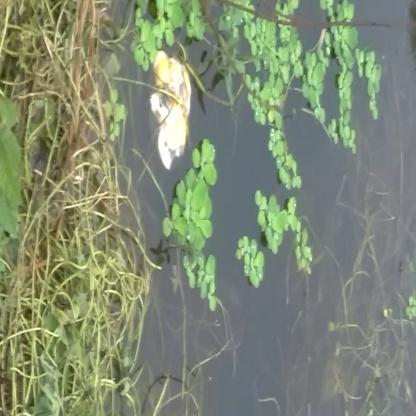plastic-bag: (146, 52, 197, 167)
